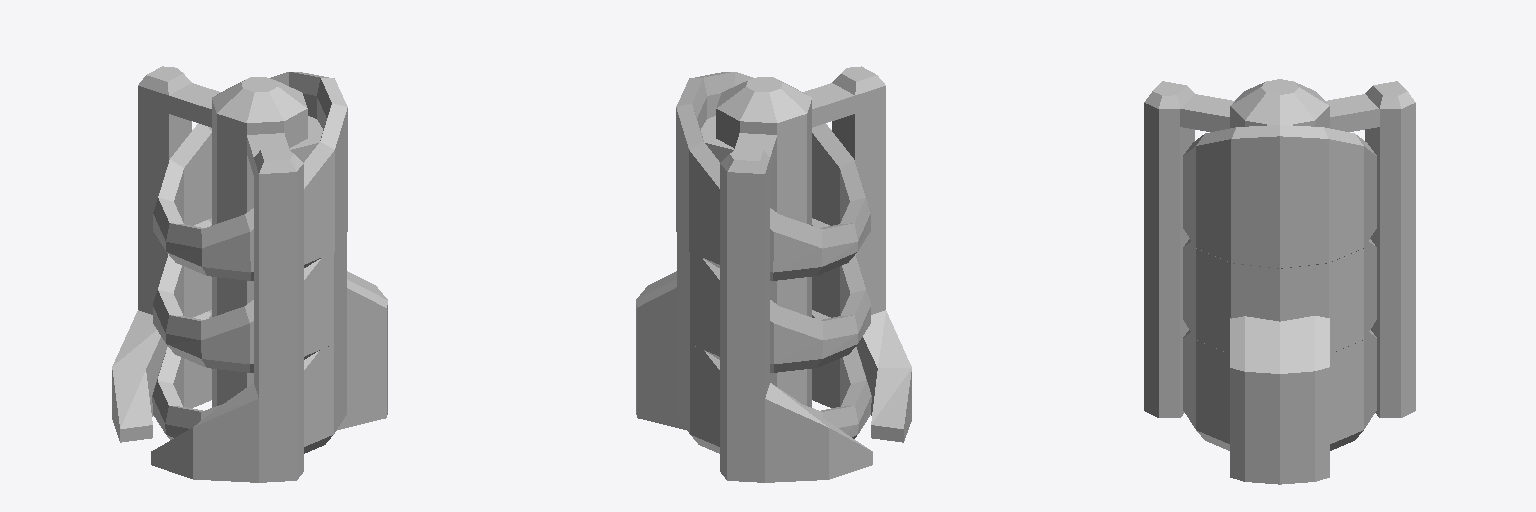
File: Building4.obj
3 views of the same model, side by side, from view 1: azimuth 30°, elevation 25°; view 2: azimuth 150°, elevation 25°; view 3: azimuth 270°, elevation 25° (orthographic).
Parts seen in each view (by area): view 1: pCylinder8; view 2: pCylinder8; view 3: pCylinder8.
Part boxes in pixels (left/top/right/bottom): pCylinder8: left=112, top=66, right=387, bottom=482; pCylinder8: left=636, top=66, right=911, bottom=482; pCylinder8: left=1144, top=79, right=1415, bottom=484.
Size of the model in its own units: 1.79 by 2.43 by 1.75.